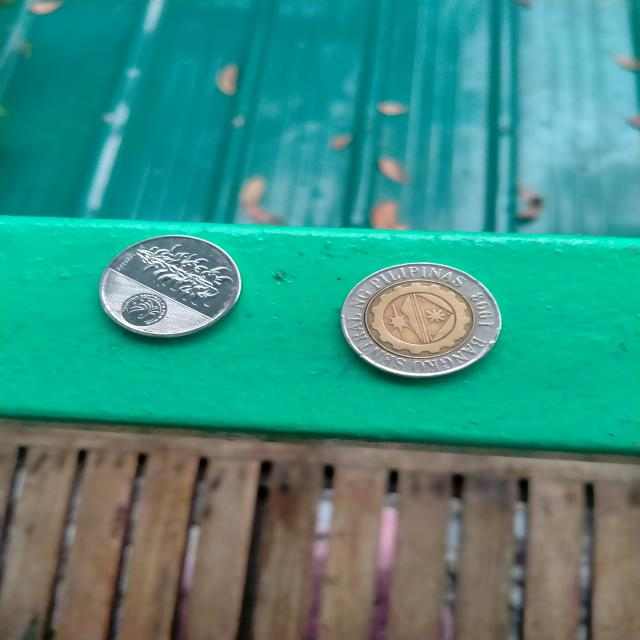10_Old_Back: (342, 264, 506, 380)
5_New_Back: (127, 242, 226, 304)
